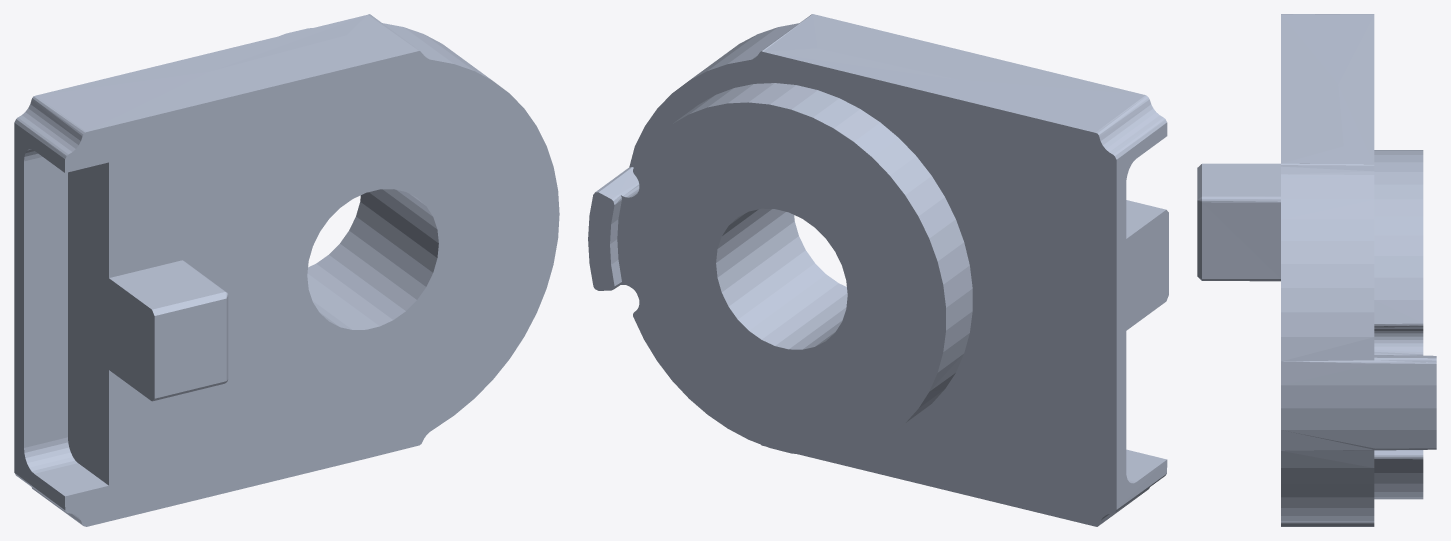
3 views of the same model, side by side, from view 1: azimuth 30°, elevation 25°; view 2: azimuth 150°, elevation 25°; view 3: azimuth 270°, elevation 25° (orthographic). The views are drawn at different scales.
Visible parts, largest first — view 1: link2_02; view 2: link2_02; view 3: link2_02.
Boxes of the visible parts, x1,y1,x2,y2 form: link2_02: (14, 14, 559, 526); link2_02: (588, 14, 1168, 526); link2_02: (1197, 14, 1436, 526).
Size of the model in its own units: 0.0564 by 0.043 by 0.0257.
